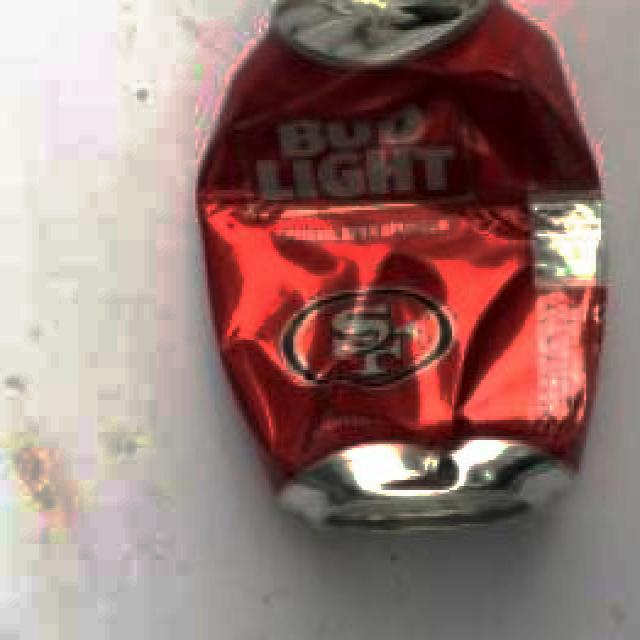Lata: (198, 0, 605, 524)
